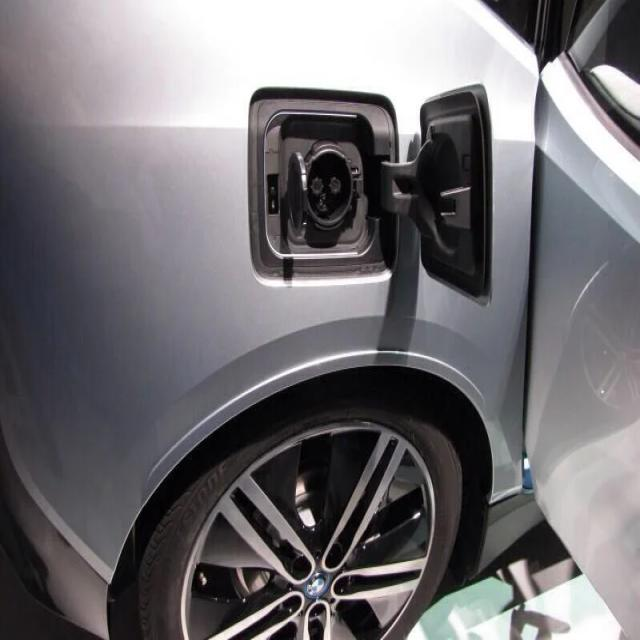CHAdeMO: (284, 120, 369, 256)
